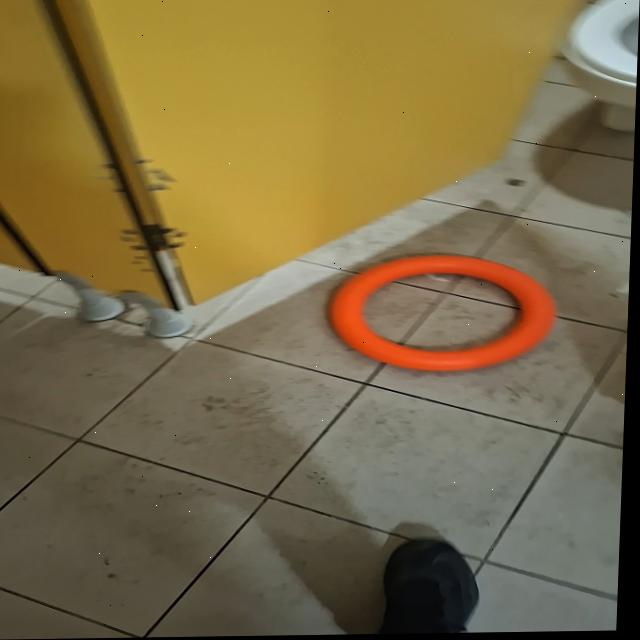note: (326, 253, 561, 375)
